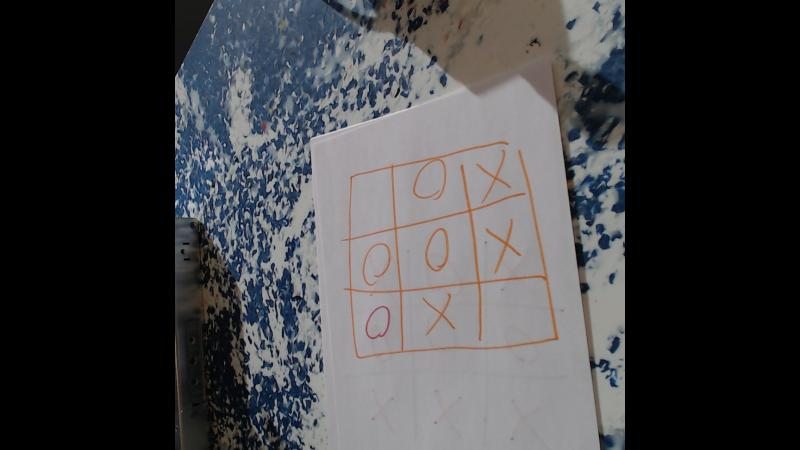O: (407, 156, 458, 206), (355, 237, 393, 285), (422, 223, 454, 279), (360, 300, 396, 345)
X: (487, 216, 530, 276), (419, 291, 462, 343), (473, 154, 517, 198)
grid: (349, 135, 551, 360)
